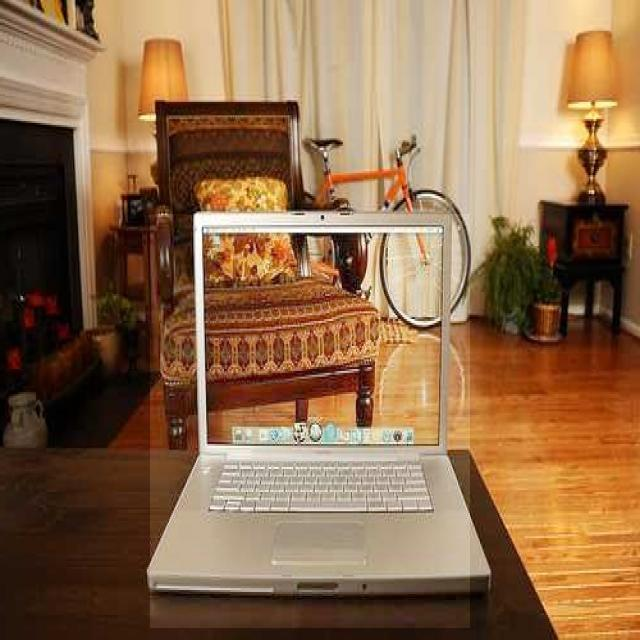-keyboard-: (150, 214, 470, 628)
